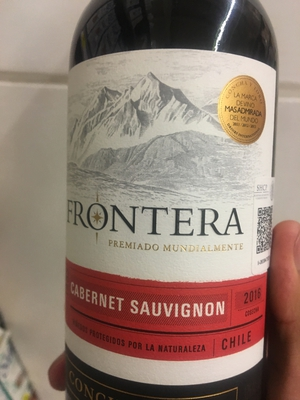frontera cabernet sauvignon: (58, 10, 296, 399)
